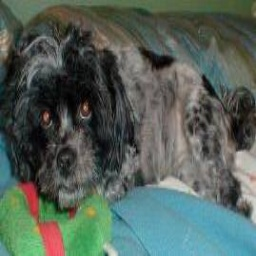dog: (10, 26, 251, 219)
